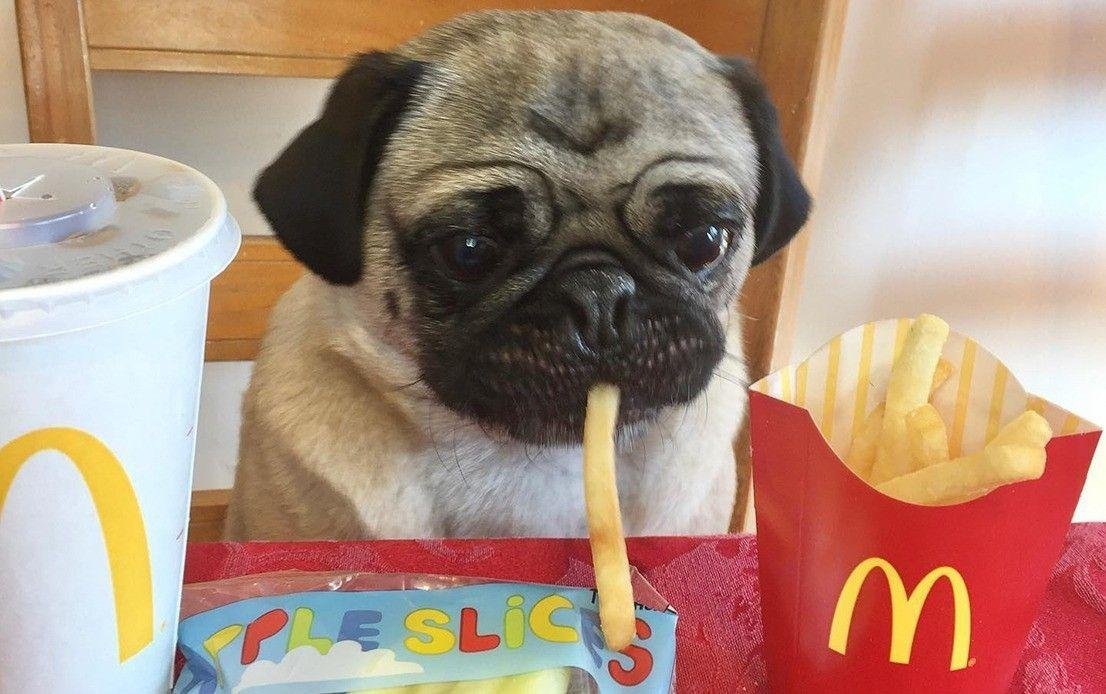adult_dog: (223, 5, 821, 542)
